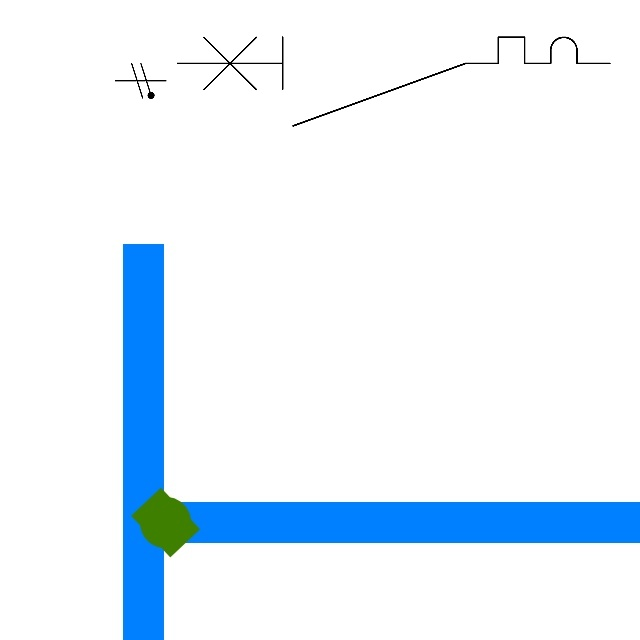interruptor_termomagnetico: (166, 26, 620, 137)
